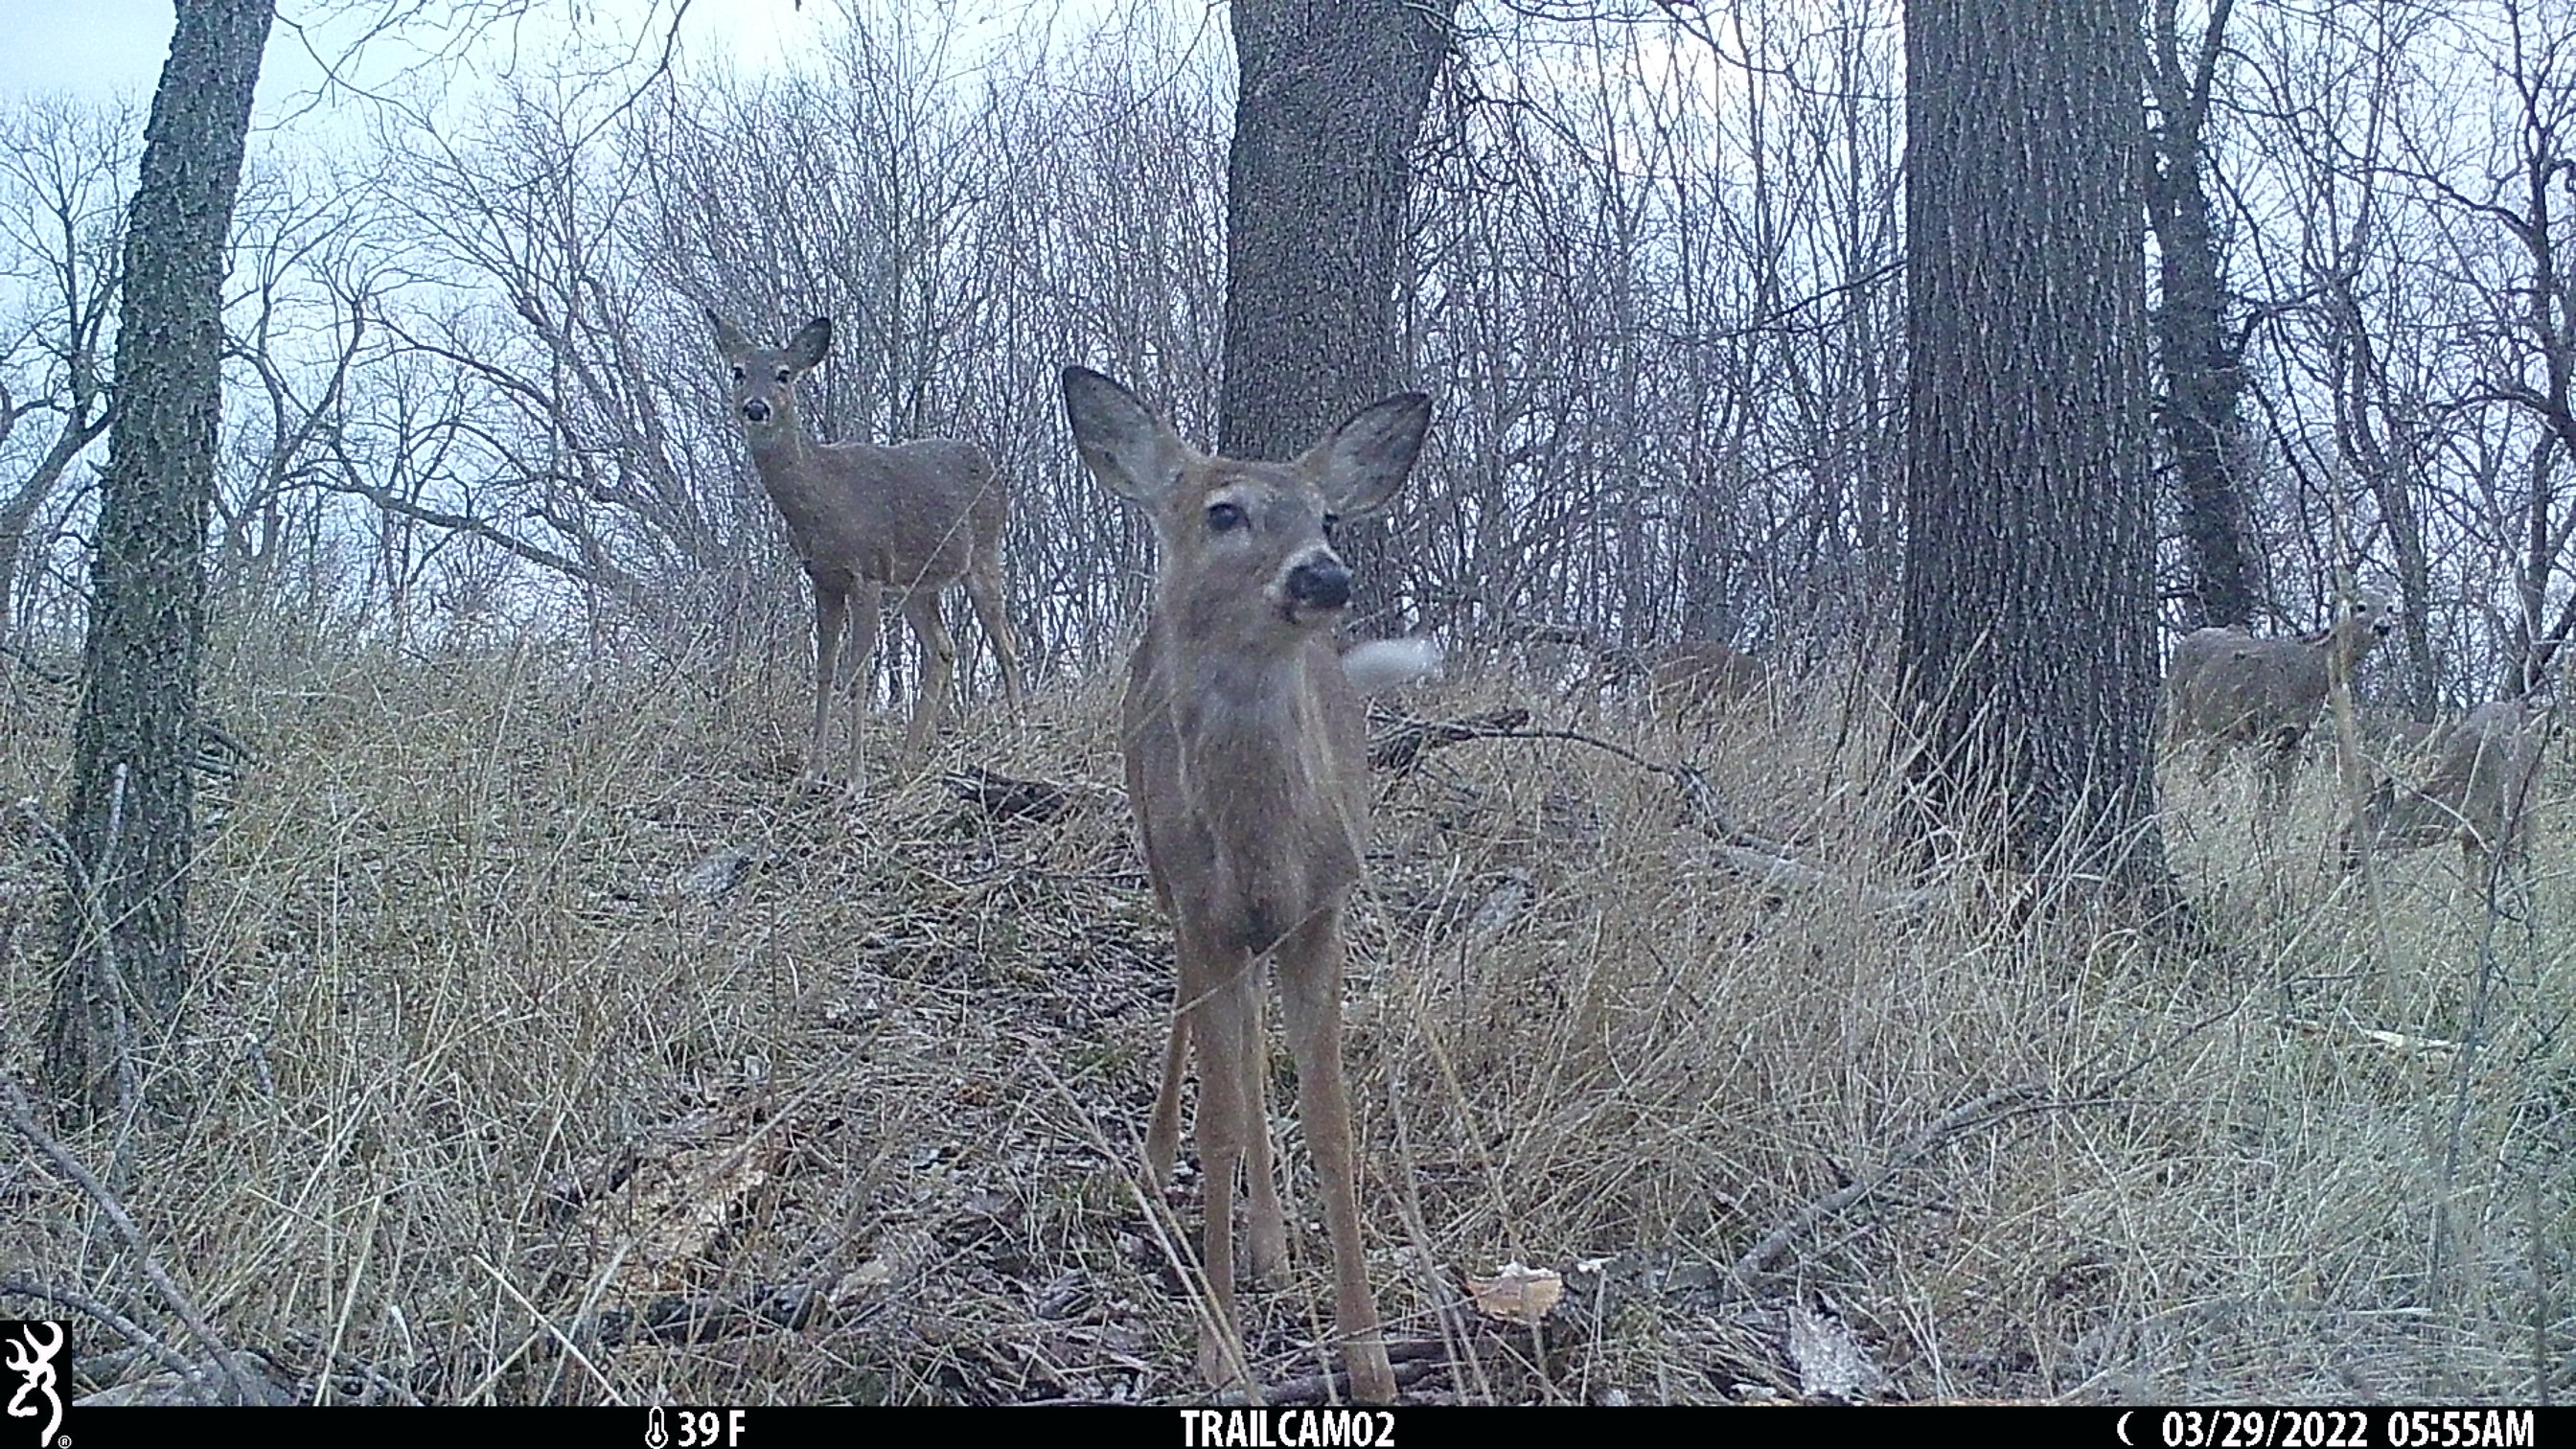Deer: (2171, 563, 2397, 809), (2332, 697, 2544, 904)
DeerDoe: (1062, 361, 1437, 1407), (711, 311, 1028, 755)
